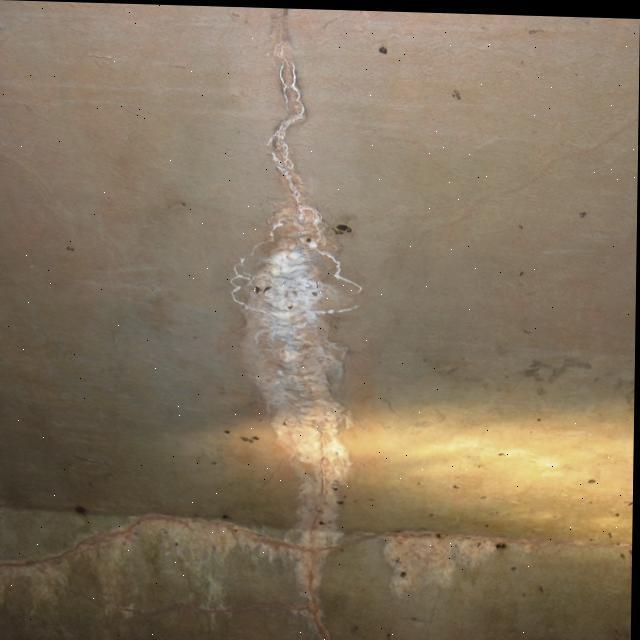D01: (262, 250, 319, 361)
